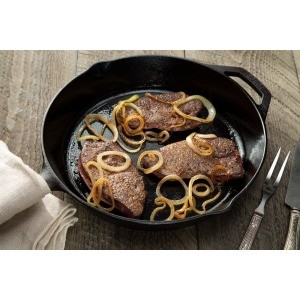liver_brain food: (120, 90, 191, 133), (164, 135, 212, 190), (85, 144, 131, 200)
